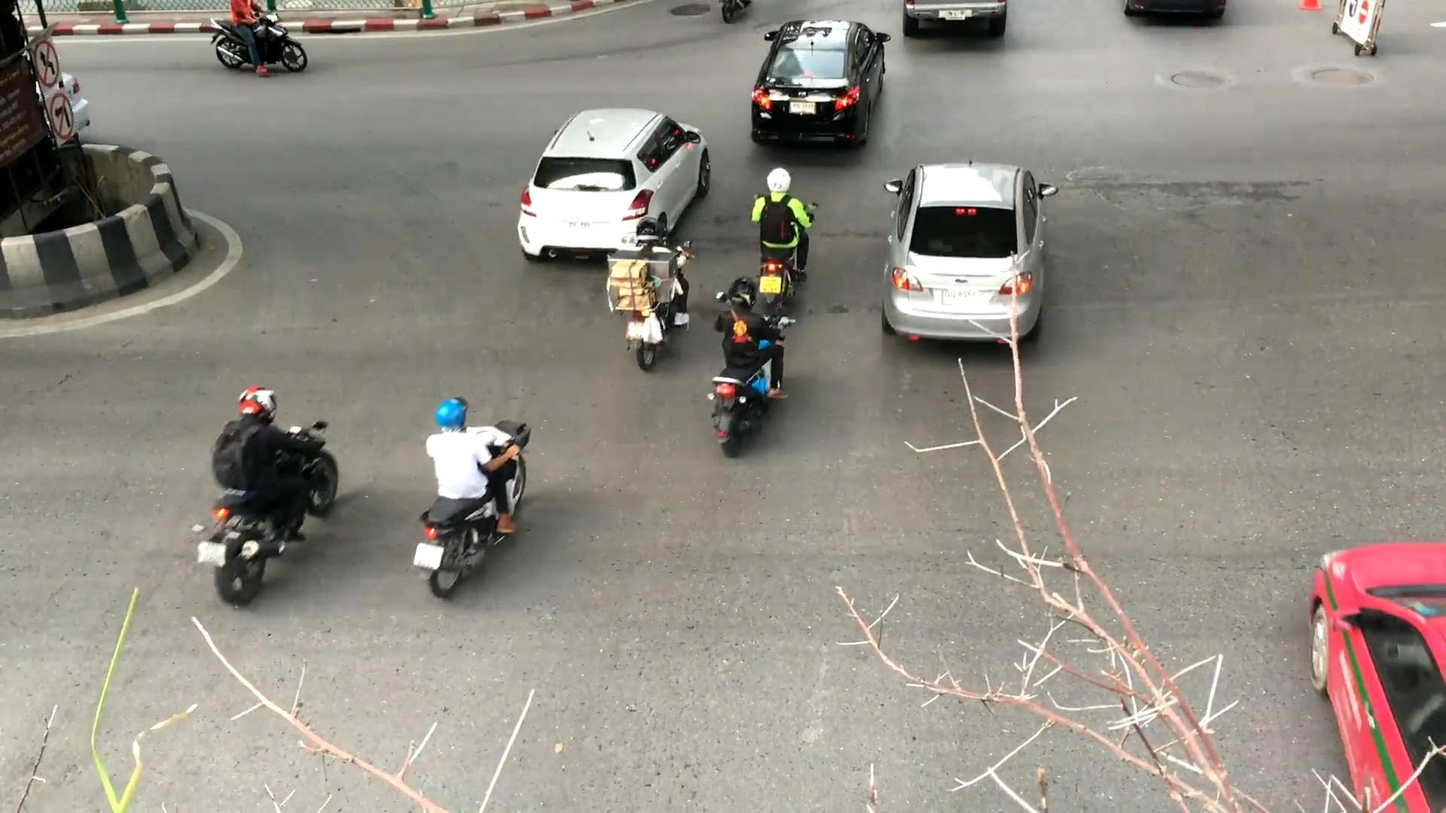driver: (196, 384, 338, 608), (413, 396, 531, 600), (707, 276, 796, 458), (606, 216, 696, 373), (751, 168, 819, 317), (209, 0, 308, 78)
helmet: (239, 385, 277, 427), (435, 396, 471, 431), (729, 276, 758, 310), (636, 217, 663, 246), (767, 168, 792, 192)
